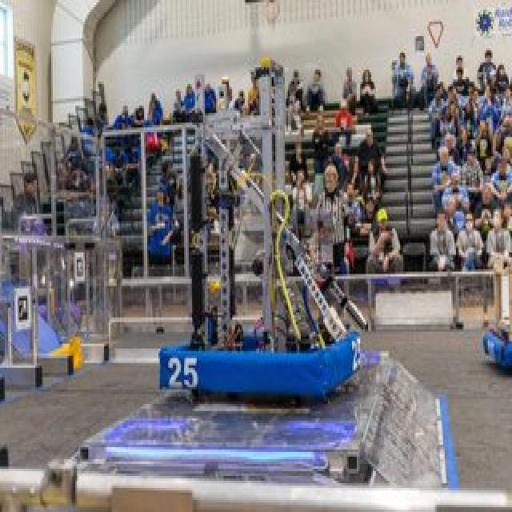robot: (156, 89, 372, 390), (483, 250, 512, 373)
